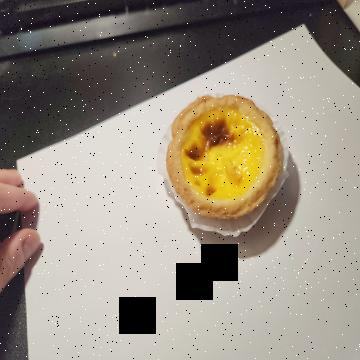EggTart: (165, 92, 283, 219)
